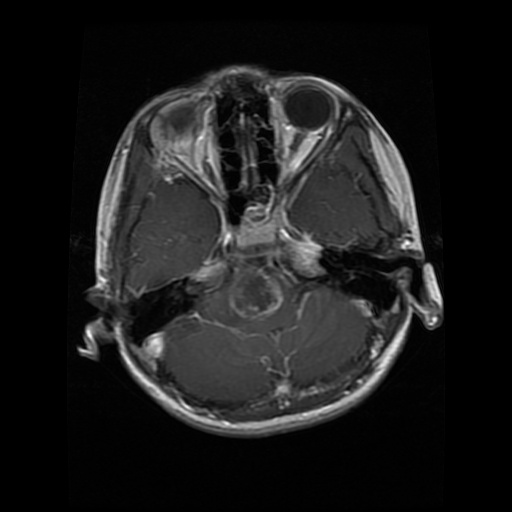glioma: (229, 266, 283, 322)
